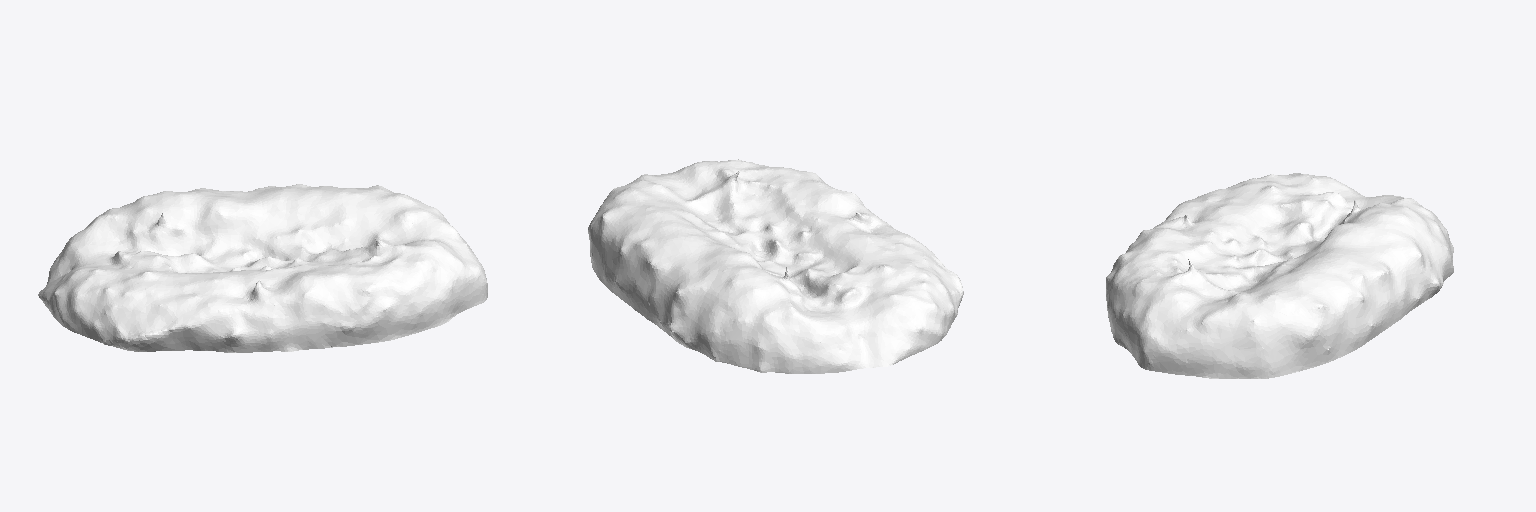
Rendered from Scaniverse_2023_06_12_122626.obj.
3 renders of one model, left to right at view 1: azimuth 30°, elevation 25°; view 2: azimuth 150°, elevation 25°; view 3: azimuth 270°, elevation 25°, orthographic.
Visible parts, largest first — view 1: mesh; view 2: mesh; view 3: mesh.
Part boxes in pixels (x1,y1,x2,y2): mesh: (38,184,487,352); mesh: (588,159,963,373); mesh: (1106,173,1453,378).
Size of the model in its own units: 0.1318 by 0.023 by 0.1084.